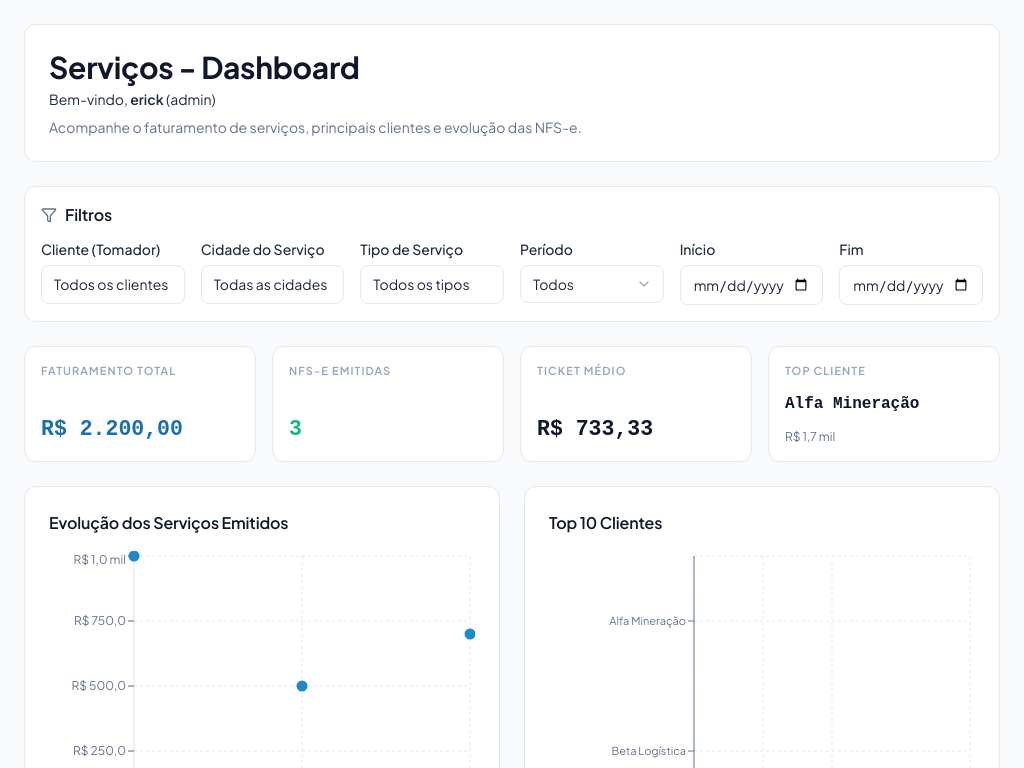
KPIs de Serviços › o filtro Cliente (Tomador) chega ao recorte e muda os KPIs
The width and height of the screenshot is (1024, 768).
Click the button "Todos os clientes" at (113, 284), box 41,265 -> 185,304
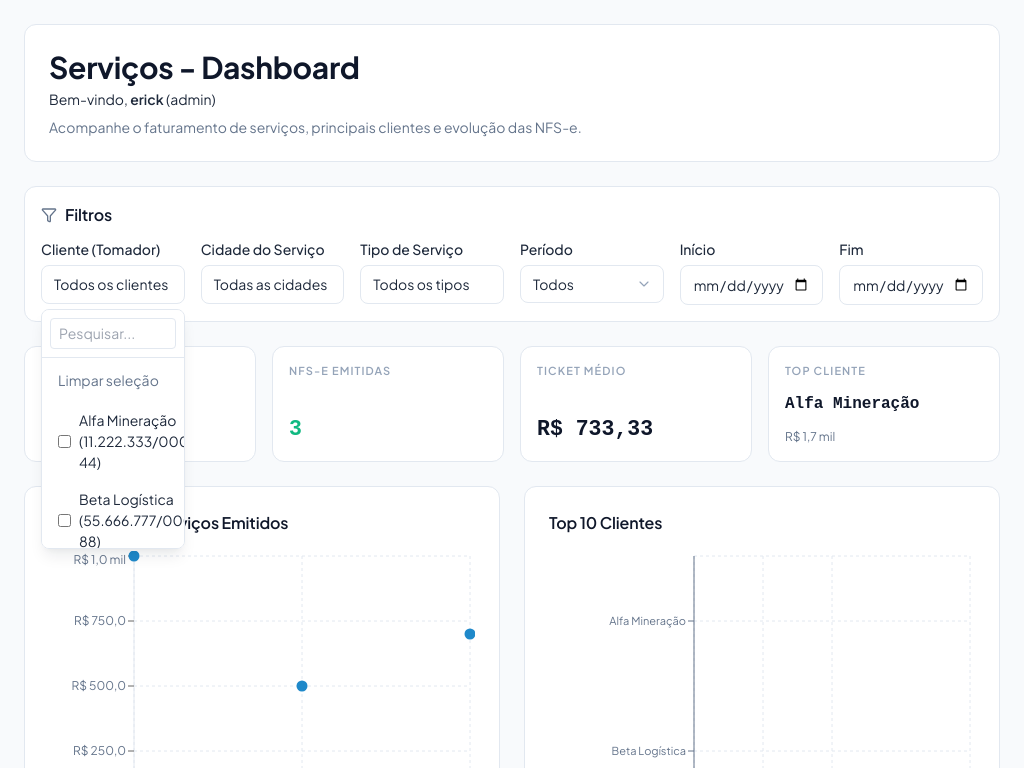
Click the checkbox labelled "Alfa Mineração (11.222.333/0001-44)" at (64, 442), box 58,435 -> 71,448
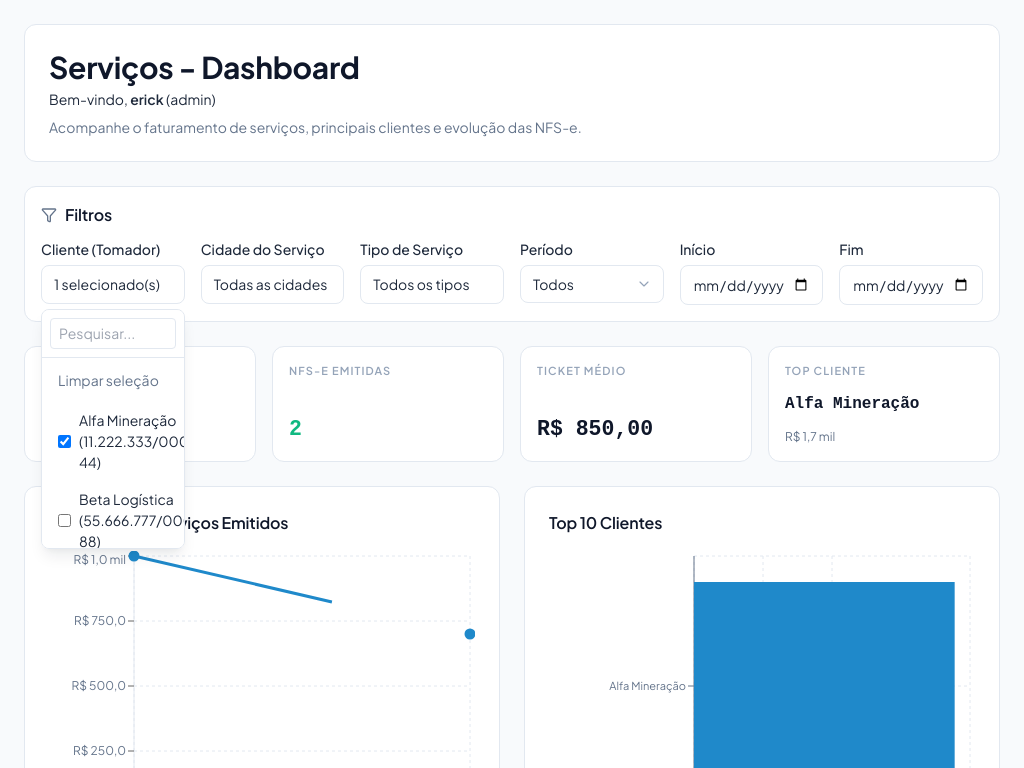
Expected: the text "2" is shown, 289,417 -> 302,441
Now the text "R$ 1.700,00" is shown, box 41,417 -> 183,441
